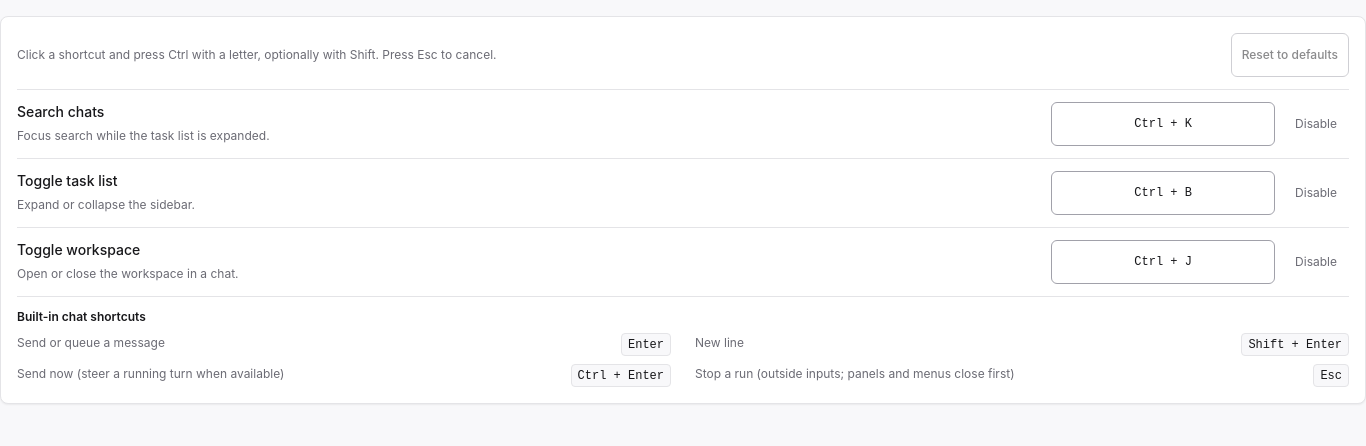
Test case: keyboard shortcut settings › does not let a capture-phase app shortcut run while recording
The width and height of the screenshot is (1366, 446).
Step 1. Click the button with aria-label "Change shortcut for Toggle task list" → (1163, 193), box [1051,171,1275,215]
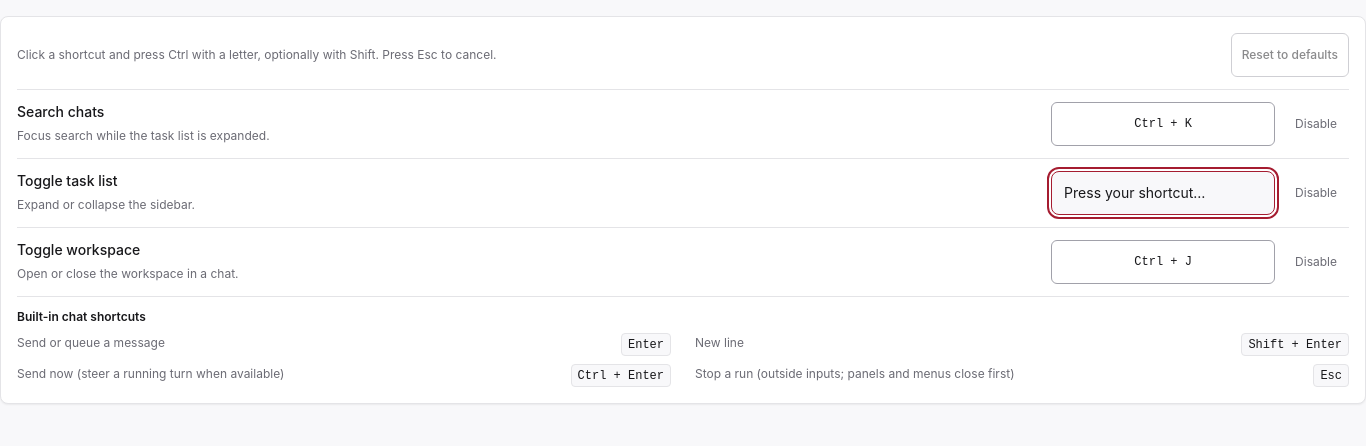
Step 2. Press j in the field named "New shortcut for Toggle task list", box [1051,171,1275,215]
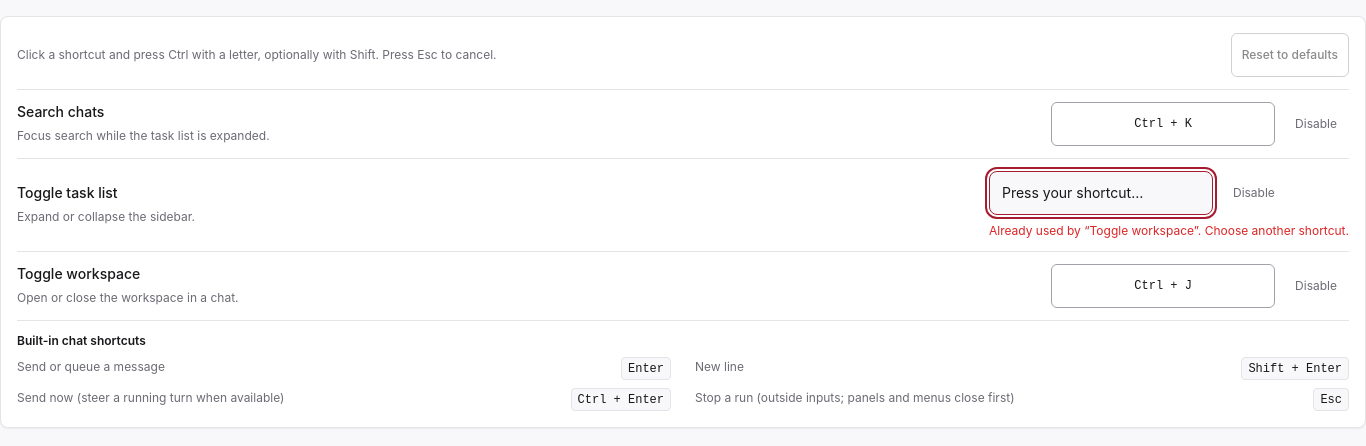
Now the message shows "Toggle workspace", box [989,223,1349,238]
